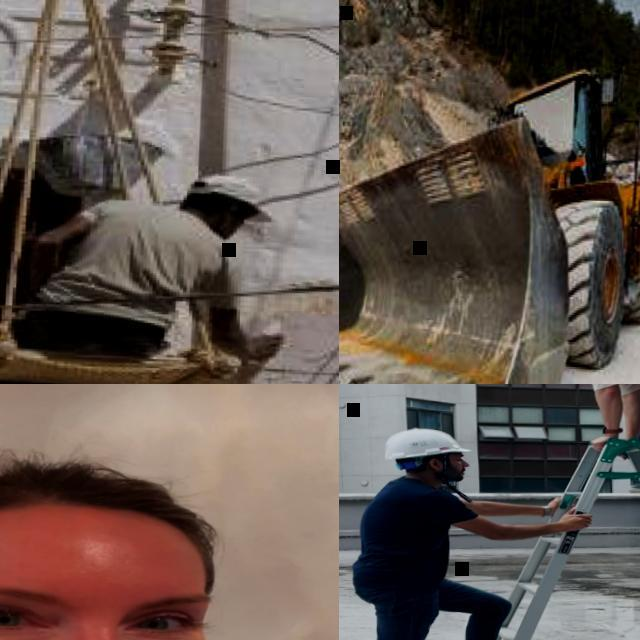helmet: (178, 170, 266, 216), (384, 425, 469, 463)
